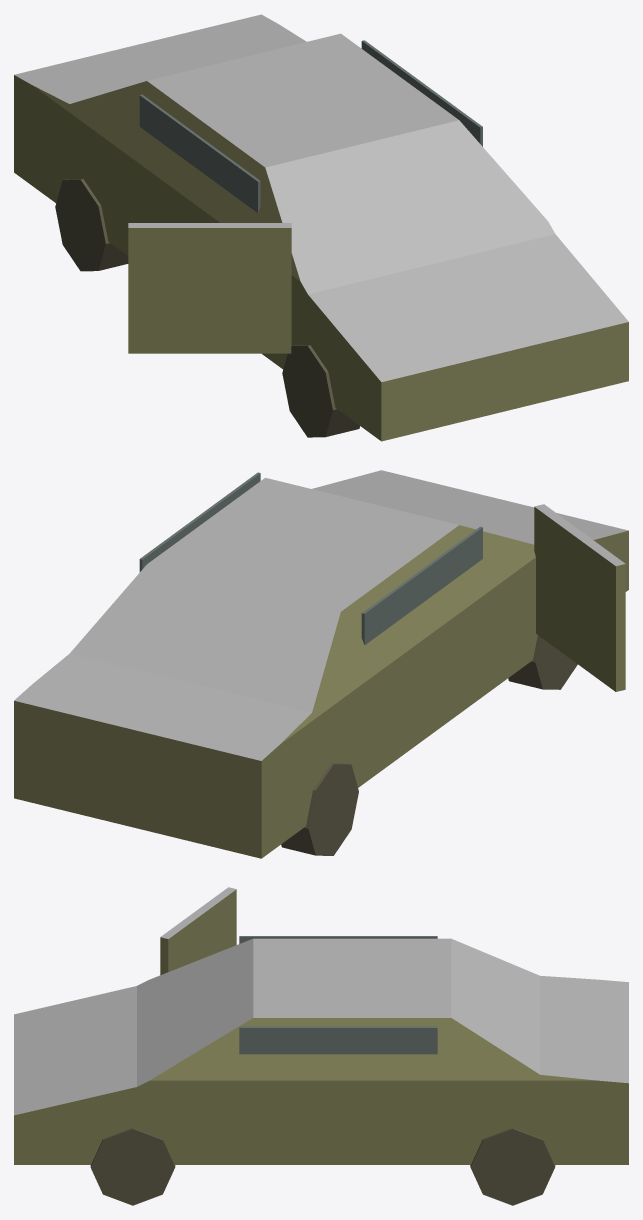
Rendered from SM_CocheCivil_Berlina_v1_LOD1.fbx.
3 views of the same model, one above another, from view 1: azimuth 30°, elevation 25°; view 2: azimuth 150°, elevation 25°; view 3: azimuth 270°, elevation 25° (orthographic). The views are drawn at different scales.
Visible parts, largest first — view 1: SM_coche_civil_v6_LOD1; view 2: SM_coche_civil_v6_LOD1; view 3: SM_coche_civil_v6_LOD1.
Boxes of the visible parts, x1,y1,x2,y2 form: SM_coche_civil_v6_LOD1: (14,14,628,441); SM_coche_civil_v6_LOD1: (14,470,628,858); SM_coche_civil_v6_LOD1: (14,887,628,1205).
Size of the model in its own units: 2.65 by 1.42 by 4.5.
